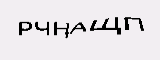А: (69, 21, 87, 35)
П: (123, 17, 146, 31)
Р: (17, 21, 33, 36)
Ч: (35, 21, 50, 37)
Щ: (89, 16, 121, 36)
Ң: (53, 21, 69, 39)
